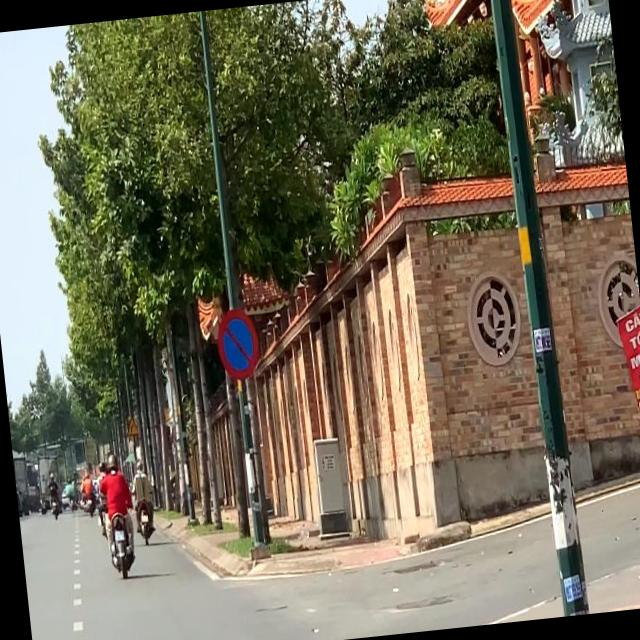P-131a: (213, 308, 260, 384)
